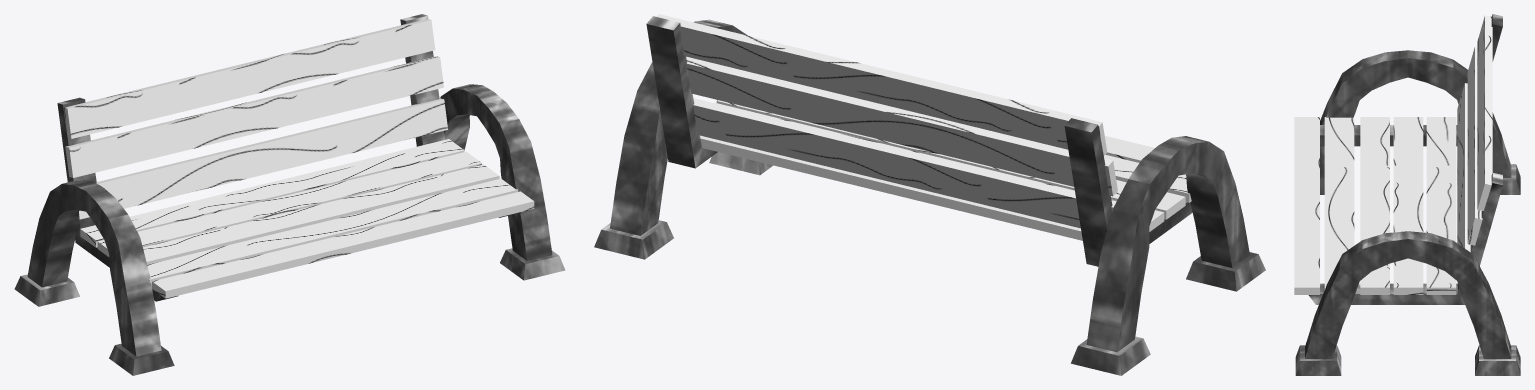
The model's file is Bench.fbx.
3 views of the same model, side by side, from view 1: azimuth 30°, elevation 25°; view 2: azimuth 150°, elevation 25°; view 3: azimuth 270°, elevation 25° (orthographic). The views are drawn at different scales.
Visible parts, largest first — view 1: Bench; view 2: Bench; view 3: Bench.
Boxes of the visible parts, left/top/right/bottom form: Bench: left=14, top=14, right=565, bottom=375; Bench: left=594, top=14, right=1265, bottom=375; Bench: left=1294, top=14, right=1520, bottom=375.
Bounding box in the file's own units: 20.75 × 8.57 × 9.9.
2 materials, 2 textured.
